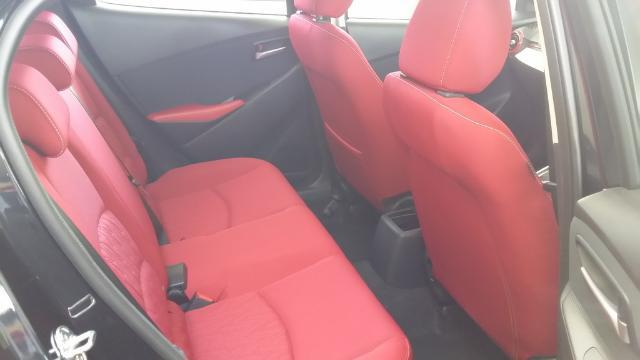Seatbelt: (0, 204, 142, 360), (128, 176, 170, 246)
